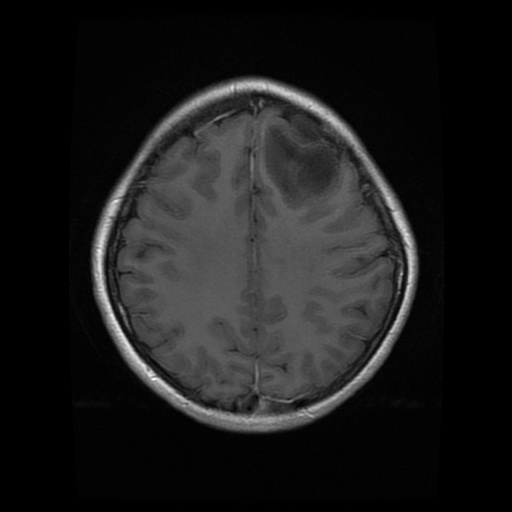glioma: (260, 113, 349, 207)
